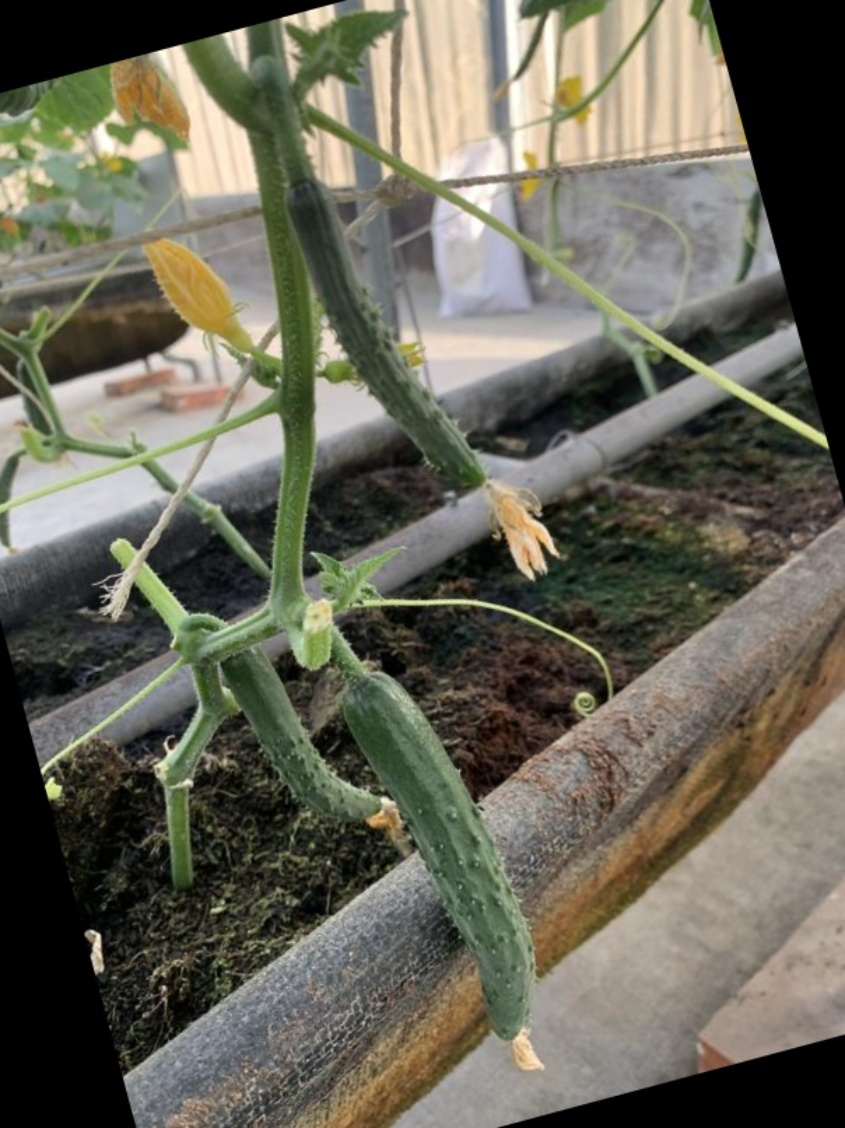mature: (343, 666, 542, 1053)
